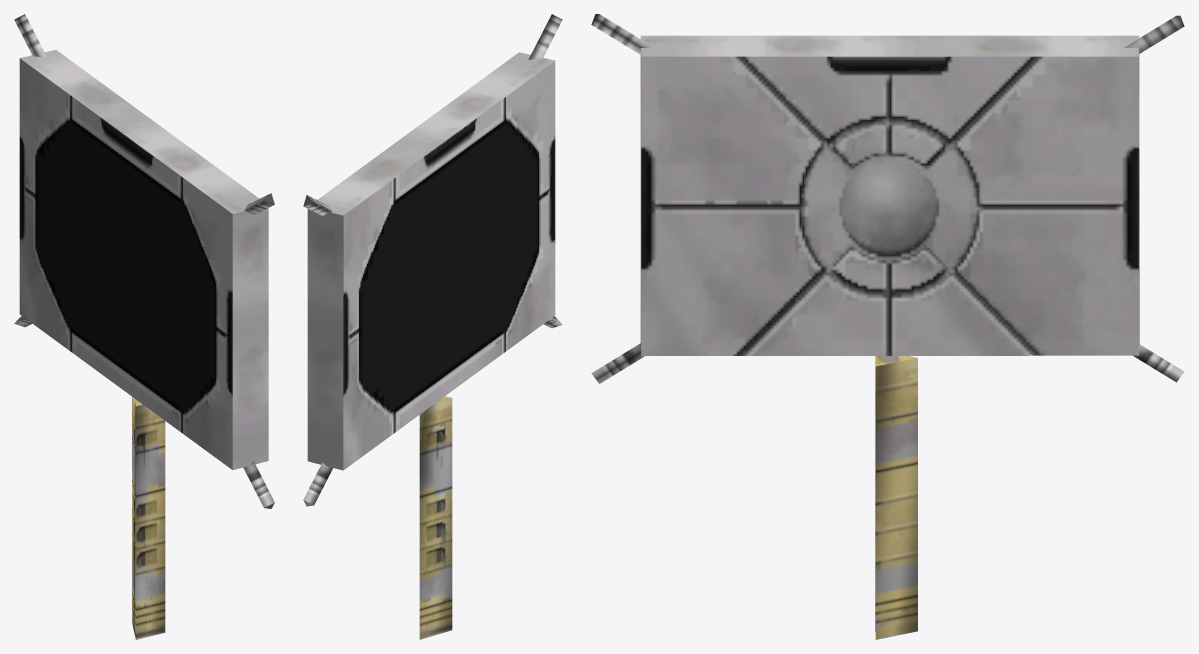
The model's file is eqp_jedi_testing_screen_l2.fbx.
The picture shows the model from 3 angles, left to right: view 1: azimuth 30°, elevation 25°; view 2: azimuth 150°, elevation 25°; view 3: azimuth 270°, elevation 25°; orthographic projection. The views are drawn at different scales.
Parts seen in each view (by area): view 1: mesh_node; view 2: mesh_node; view 3: mesh_node.
Part boxes in pixels (box(x1,y1,x2,y2)): mesh_node: box(14, 14, 274, 639); mesh_node: box(303, 14, 562, 639); mesh_node: box(591, 14, 1184, 639).
Bounding box in the file's own units: 0.0238 × 0.3323 × 0.2885.
1 material, 1 textured.
